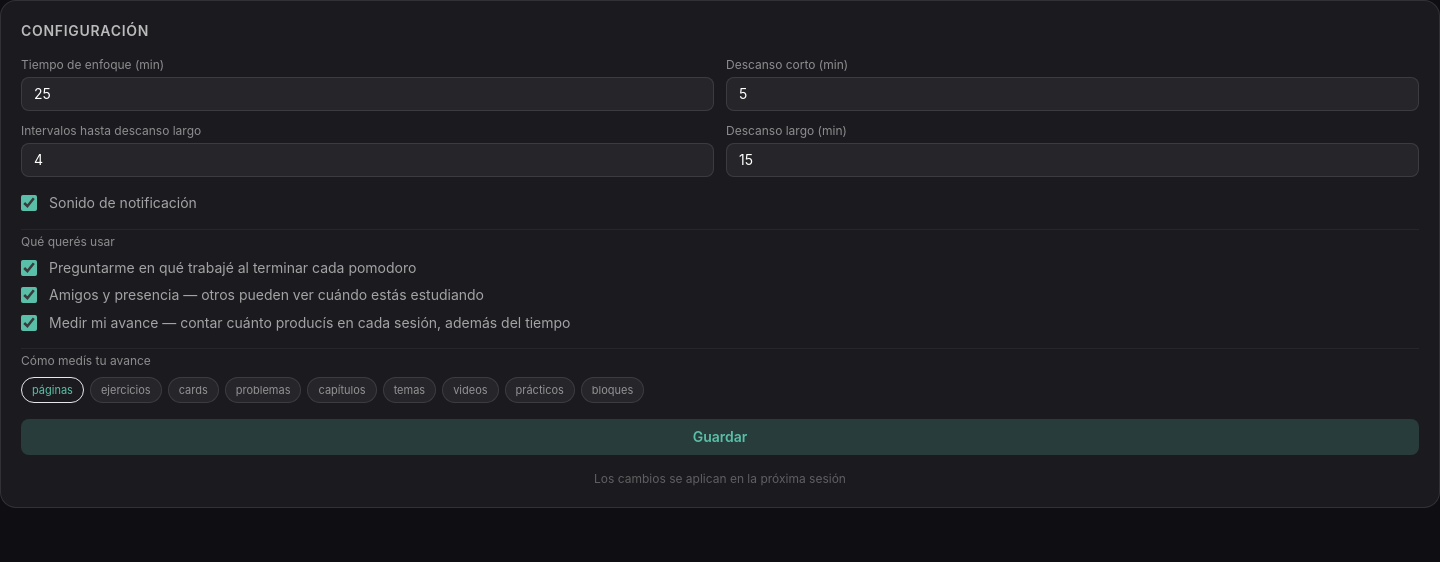
SettingsPanel — unidad de avance › avisa que el historial se mezcla al cambiar de unidad
This screenshot has width=1440, height=562.
Click the button "cards" at coordinates (193, 390), box [168,377,219,403]
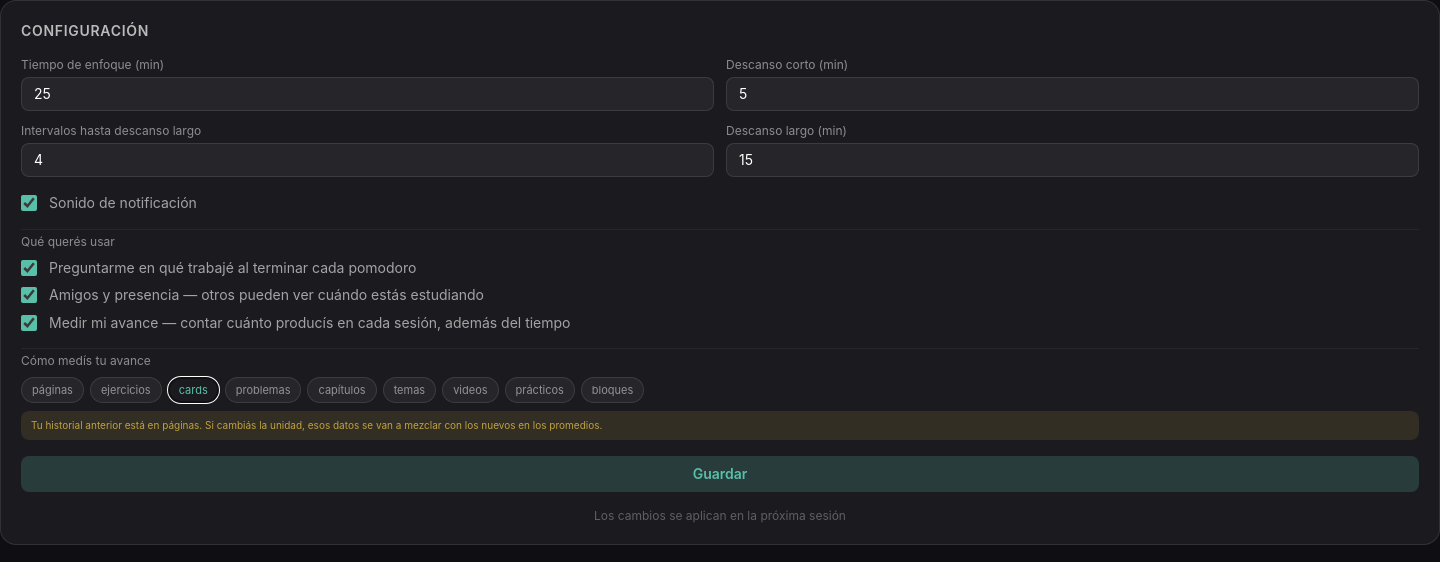
Expected: the message shows "páginas", [162,419,199,431]
